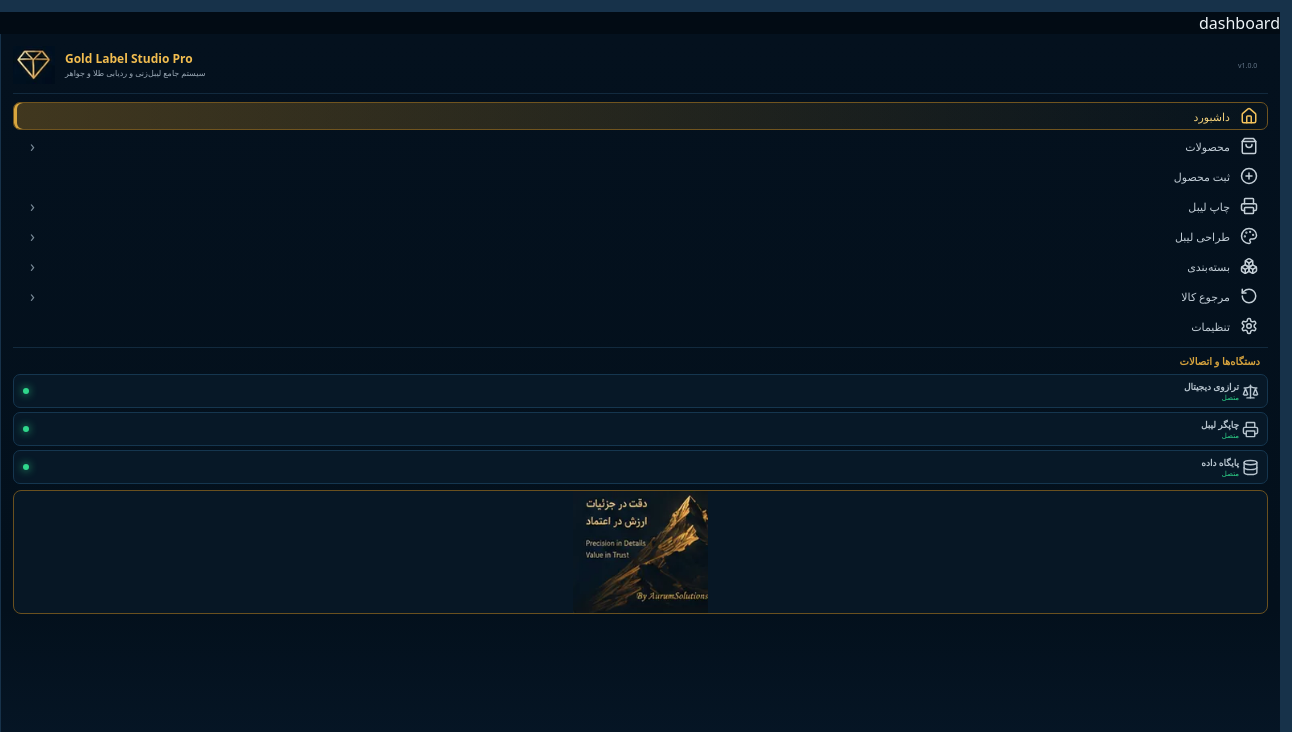
Test: approved sidebar artwork › updates the controlled shell route when product registration is selected
Click the button "ثبت محصول" at [1202, 176], box [13, 162, 1268, 190]
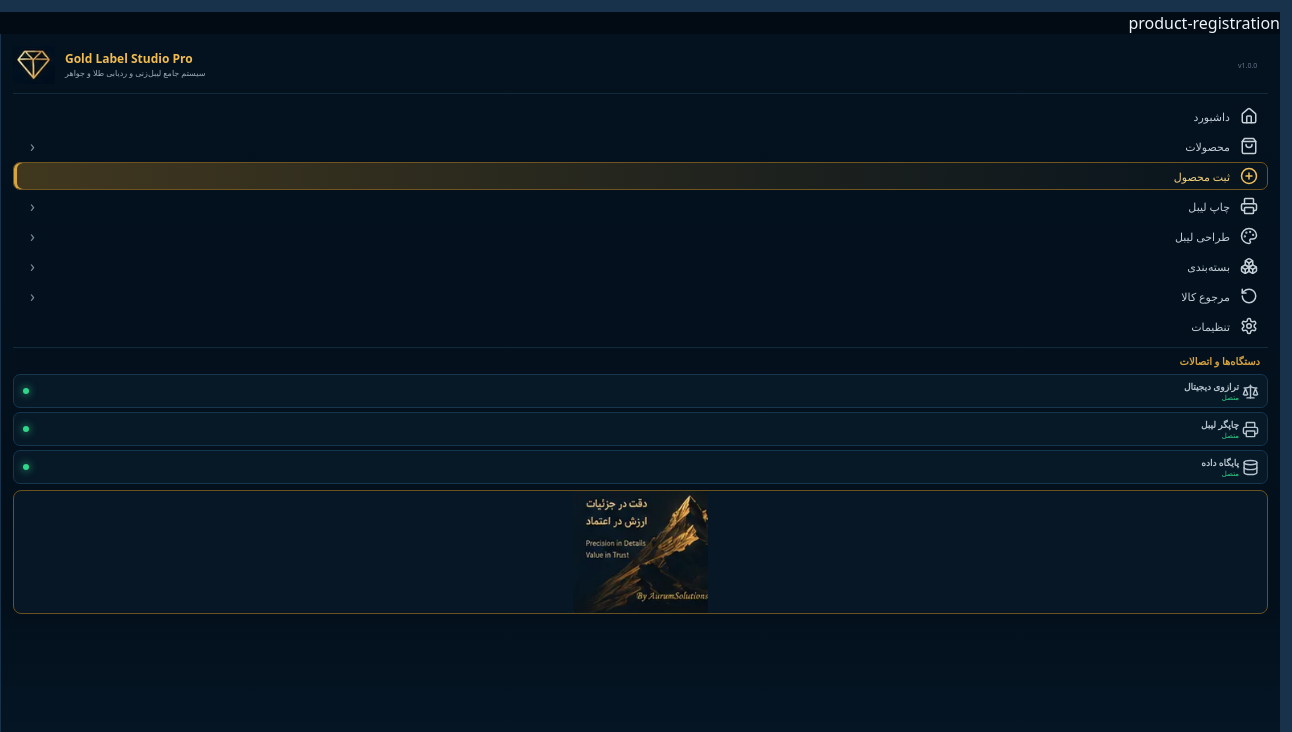
Expected: the text named "صفحه فعال" reads "product-registration", [1128, 12, 1280, 34]
